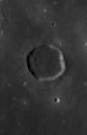crater: (18, 40, 82, 91)
